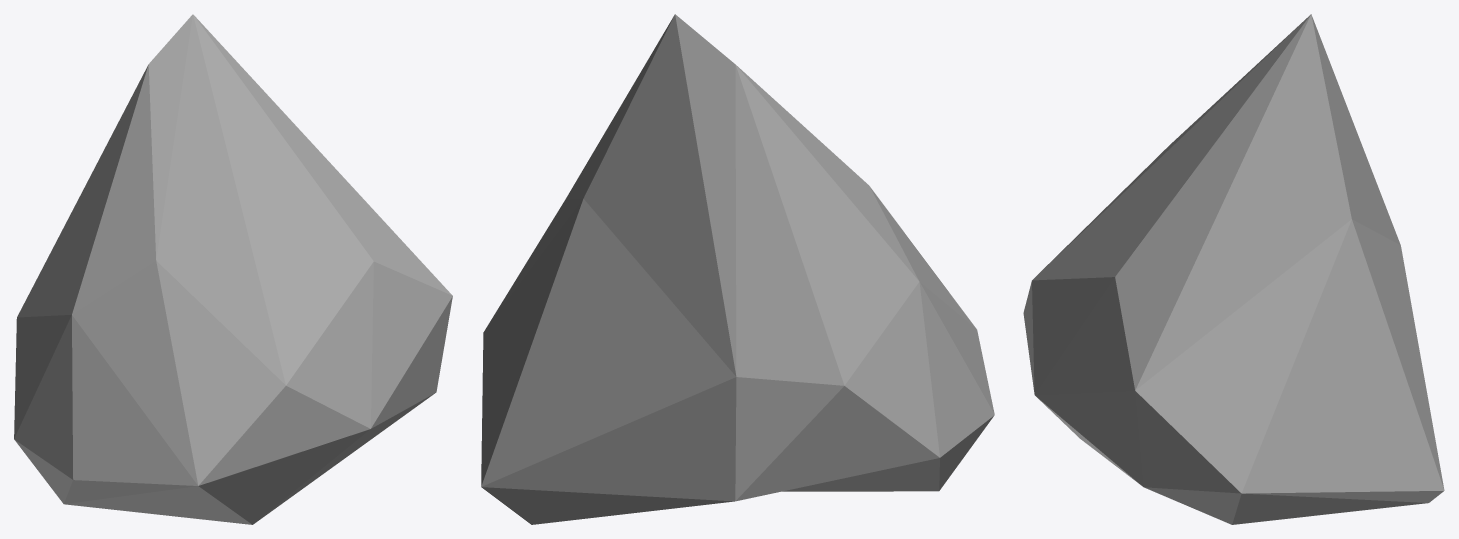
File: rock2.fbx
3 renders of one model, left to right at view 1: azimuth 30°, elevation 25°; view 2: azimuth 150°, elevation 25°; view 3: azimuth 270°, elevation 25°, orthographic. The views are drawn at different scales.
Visible parts, largest first — view 1: rock2; view 2: rock2; view 3: rock2.
Part boxes in pixels (x1,y1,x2,y2): rock2: [14, 14, 452, 524]; rock2: [481, 14, 994, 524]; rock2: [1023, 14, 1444, 524].
Size of the model in its own units: 61.49 by 61.34 by 51.74.
